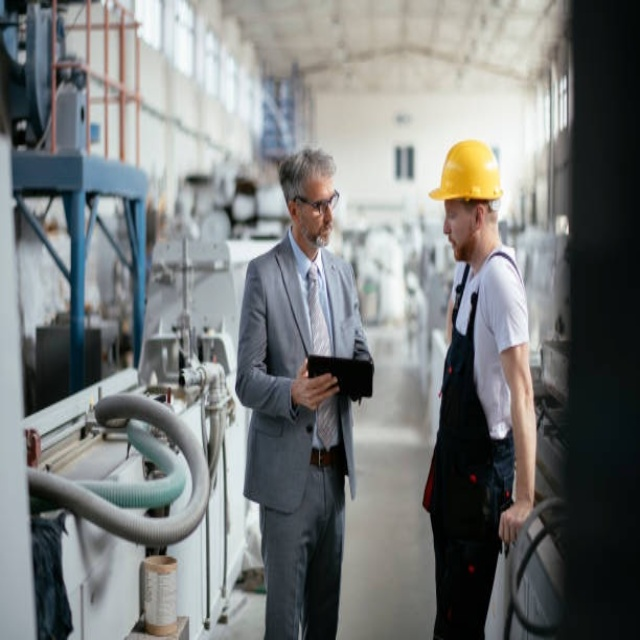Gafas: (293, 185, 343, 210)
Sin_gafas: (443, 204, 465, 223)
Sin_guantes: (292, 356, 337, 413), (497, 500, 530, 549)
Sin_mascara: (311, 218, 334, 246), (445, 231, 463, 259)
